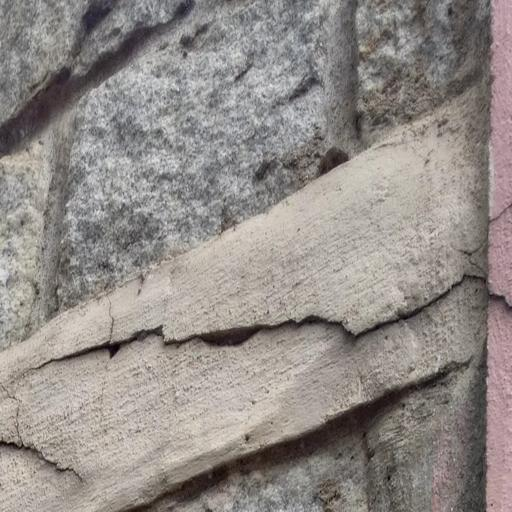major_crack: (35, 263, 512, 379), (0, 400, 106, 489)
